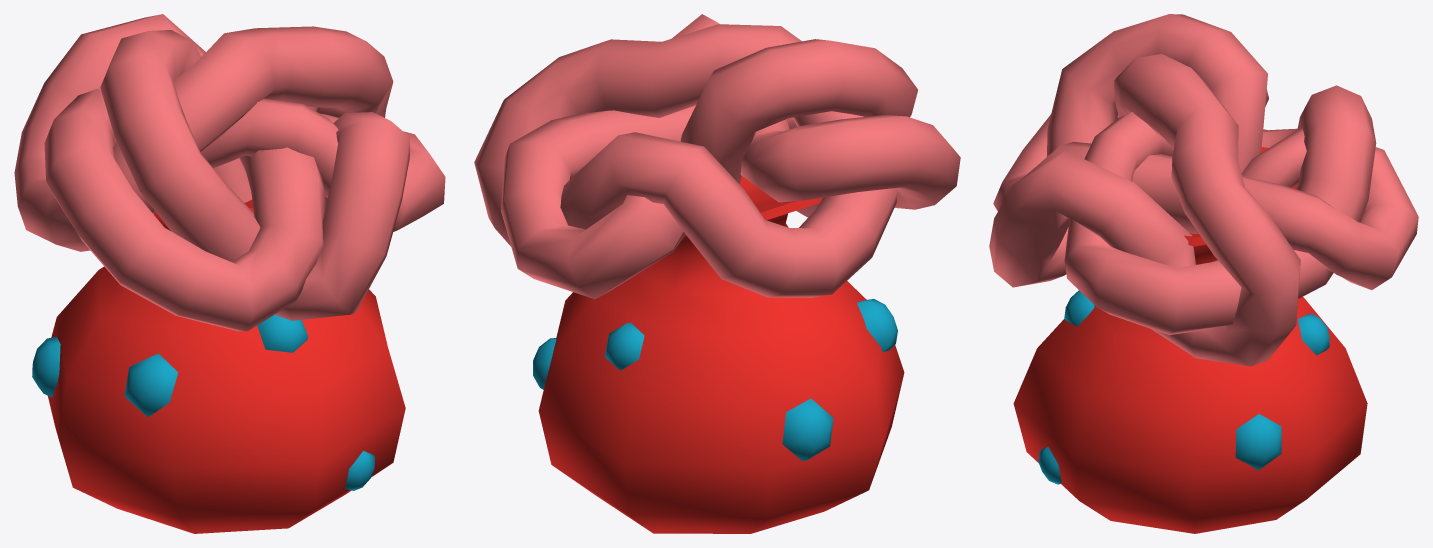
Rendered from Plant_2_red.fbx.
3 renders of one model, left to right at view 1: azimuth 30°, elevation 25°; view 2: azimuth 150°, elevation 25°; view 3: azimuth 270°, elevation 25°, orthographic. The views are drawn at different scales.
Visible parts, largest first — view 1: Plant_2_red; view 2: Plant_2_red; view 3: Plant_2_red.
Part boxes in pixels (box(x1,y1,x2,y2)): Plant_2_red: box(14, 14, 445, 533); Plant_2_red: box(474, 14, 960, 533); Plant_2_red: box(989, 14, 1418, 533).
Size of the model in its own units: 3.19 by 3.72 by 3.28.
